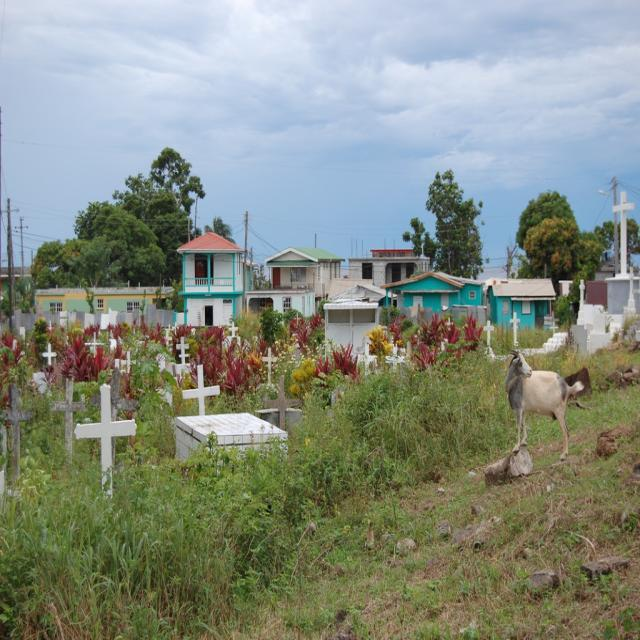Goat: (504, 348, 585, 461)
